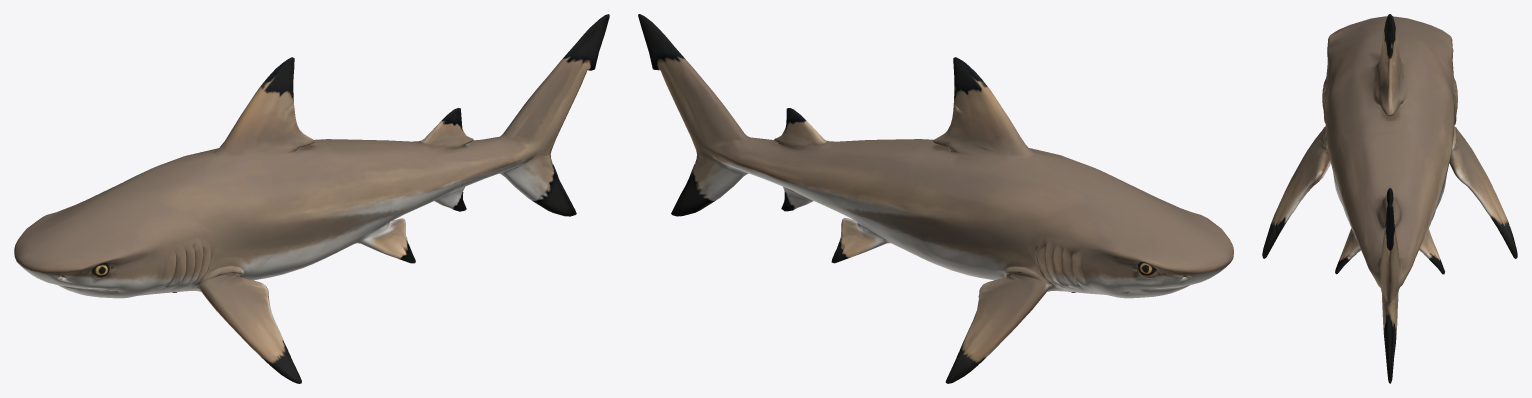
File: fish-rifakula.glb
3 renders of one model, left to right at view 1: azimuth 30°, elevation 25°; view 2: azimuth 150°, elevation 25°; view 3: azimuth 270°, elevation 25°, orthographic.
Visible parts, largest first — view 1: tripo_node_2c17e06d-39f8-4924-bde5-03c896f2cda4; view 2: tripo_node_2c17e06d-39f8-4924-bde5-03c896f2cda4; view 3: tripo_node_2c17e06d-39f8-4924-bde5-03c896f2cda4.
Part boxes in pixels (x1=…): tripo_node_2c17e06d-39f8-4924-bde5-03c896f2cda4: x1=14, y1=14, x2=609, y2=383; tripo_node_2c17e06d-39f8-4924-bde5-03c896f2cda4: x1=638, y1=14, x2=1233, y2=383; tripo_node_2c17e06d-39f8-4924-bde5-03c896f2cda4: x1=1262, y1=14, x2=1517, y2=383.
Bounding box in the file's own units: 1 × 0.4328 × 0.3709.
1 material, 1 textured.
